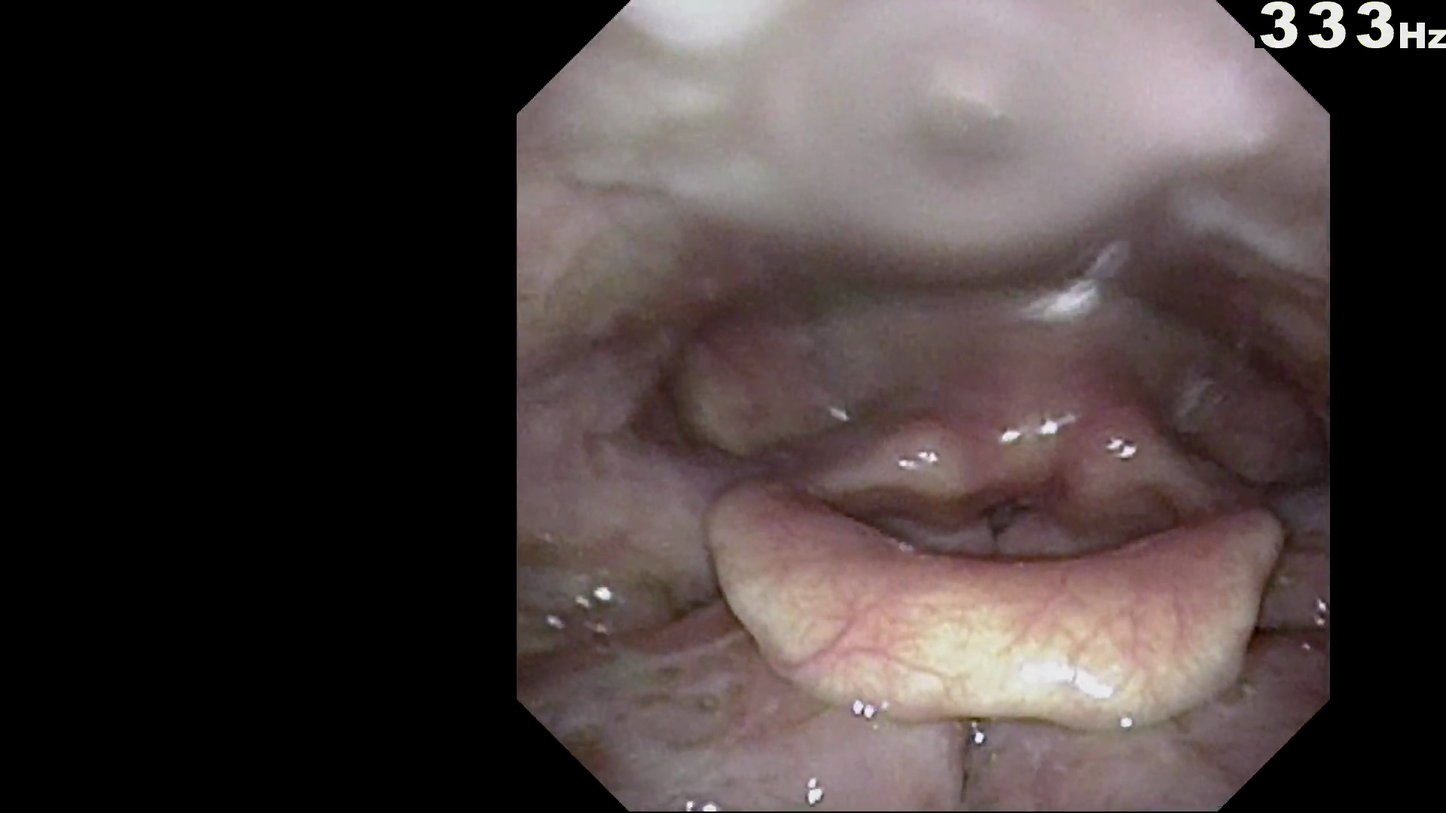epiglottis: (677, 493, 1286, 718)
trachea: (970, 487, 1033, 548)
